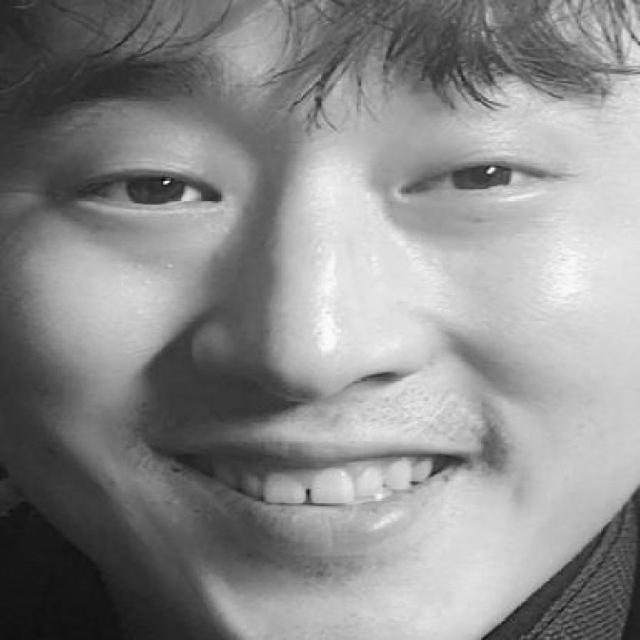Happy: (28, 29, 618, 560)
